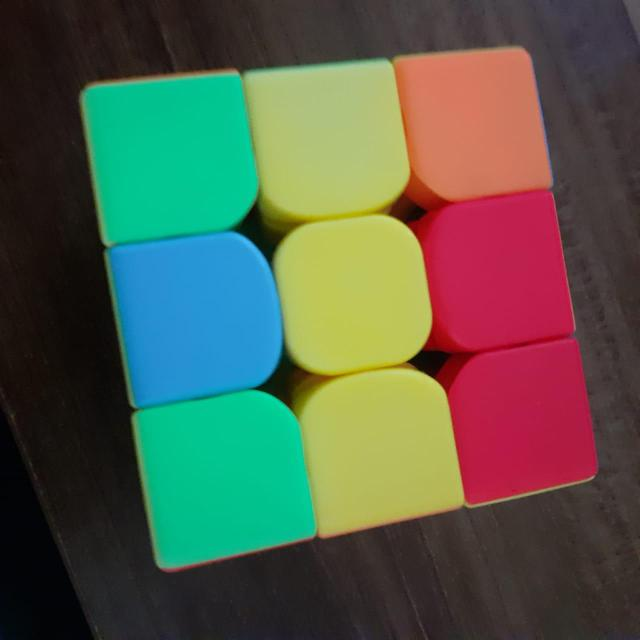Blue: (107, 243, 270, 385)
Green: (144, 406, 304, 554), (90, 90, 250, 222)
Orange: (409, 56, 545, 186)
Red: (439, 208, 571, 338), (461, 362, 587, 488)
Yellow: (279, 225, 425, 368), (306, 388, 454, 518), (254, 77, 401, 206)
